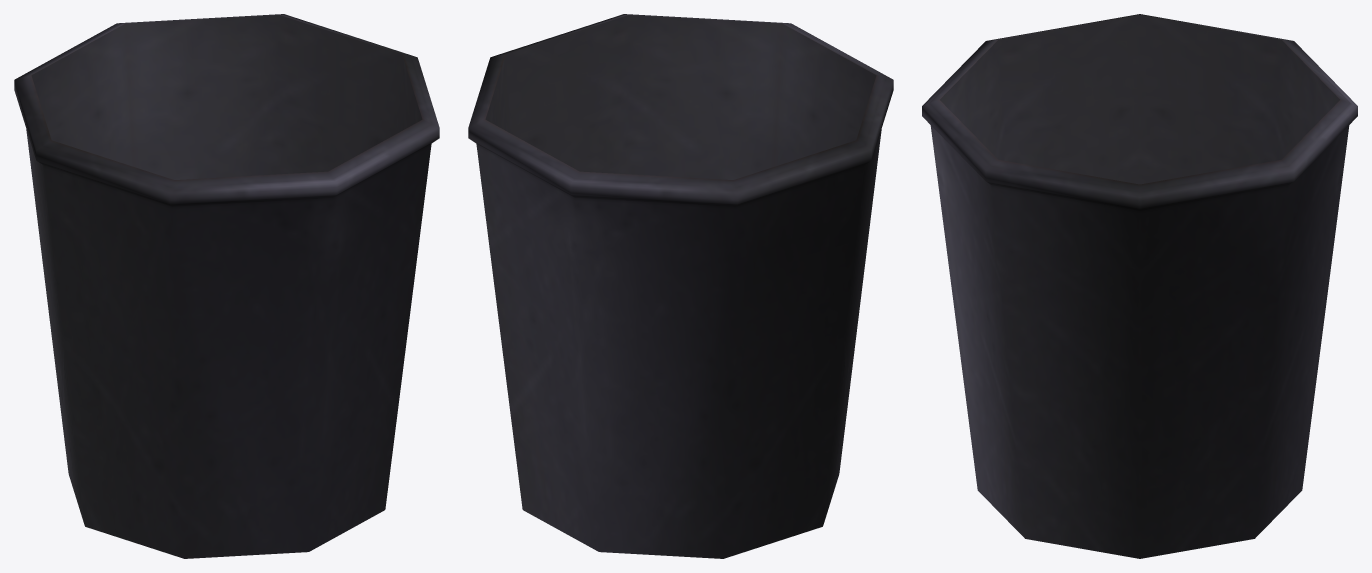
Rendered from XiuXiShi_01_lajitong_01.FBX.
The picture shows the model from 3 angles, left to right: view 1: azimuth 30°, elevation 25°; view 2: azimuth 150°, elevation 25°; view 3: azimuth 270°, elevation 25°; orthographic projection.
Parts seen in each view (by area): view 1: XiuXiShi_lajitong; view 2: XiuXiShi_lajitong; view 3: XiuXiShi_lajitong.
Boxes of the visible parts, <box> form: XiuXiShi_lajitong: <box>14,14,439,558</box>; XiuXiShi_lajitong: <box>468,14,893,558</box>; XiuXiShi_lajitong: <box>922,14,1357,558</box>.
Bounding box in the file's own units: 138 × 136 × 138.
